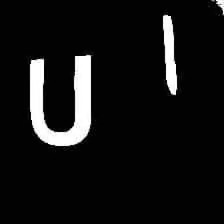LTR_U: (17, 45, 100, 154)
